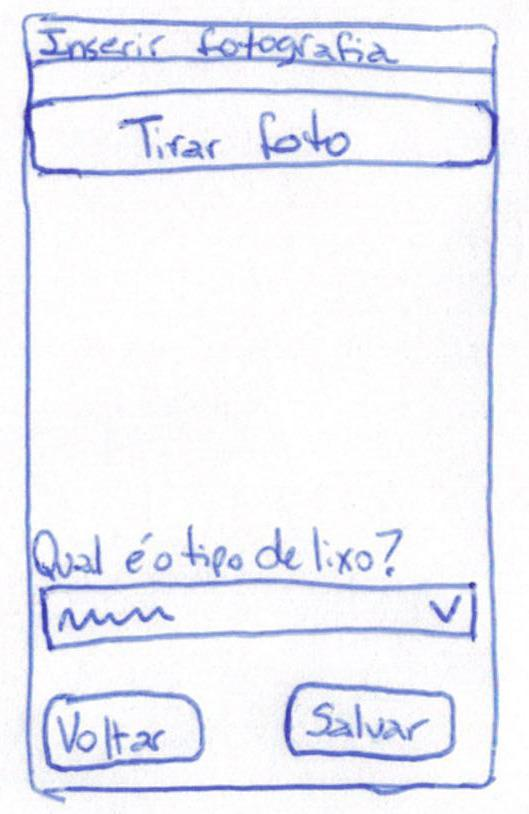Button: (28, 86, 498, 176), (43, 690, 207, 773), (285, 682, 456, 759)
Label: (33, 522, 409, 584), (36, 28, 400, 70)
ListPicker: (36, 579, 479, 654)
Screen: (21, 13, 504, 796)
